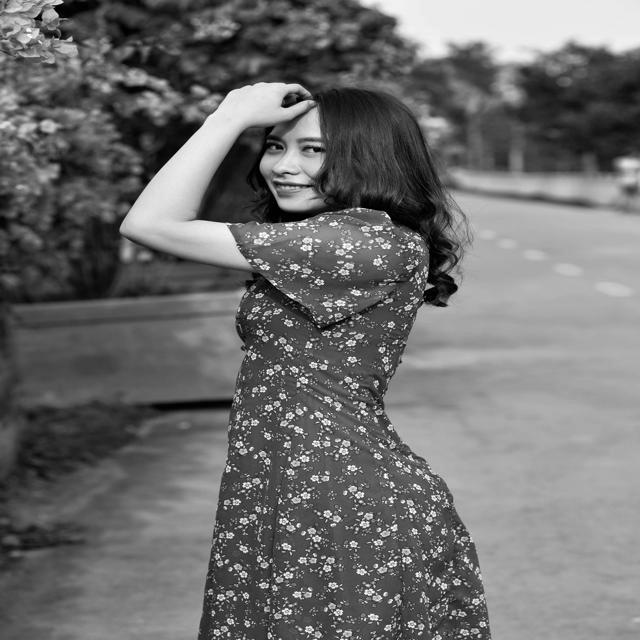Happiness: (255, 102, 330, 216)
